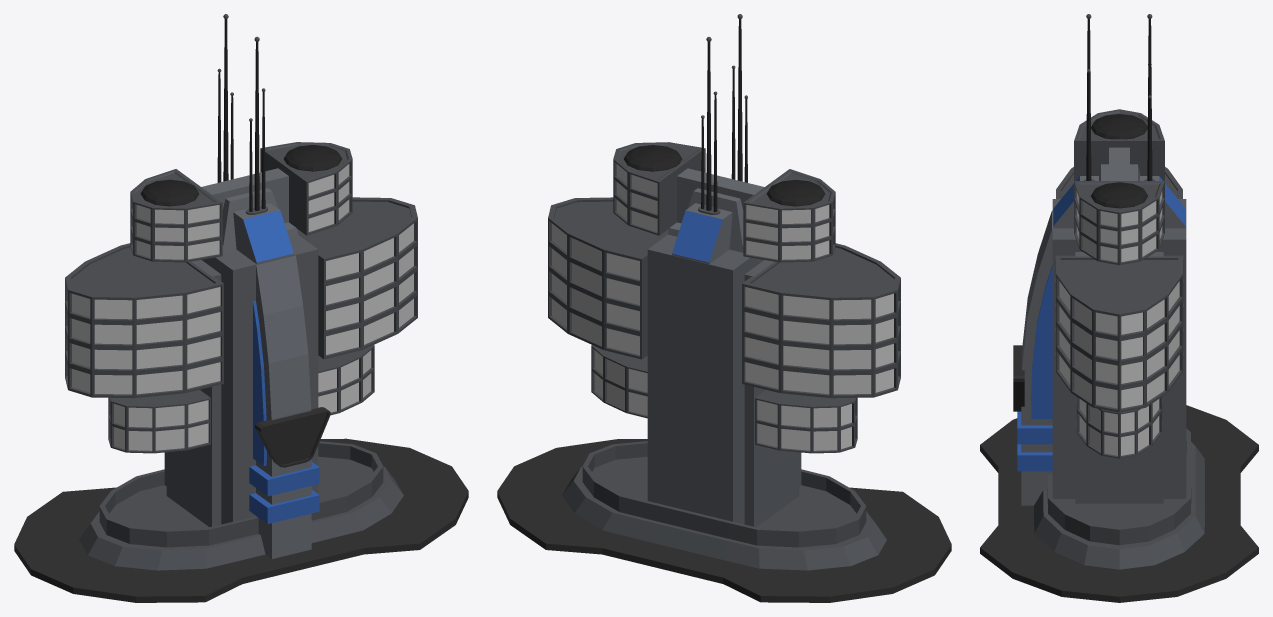
The model's file is Allied_battle_lab_NEW.fbx.
3 views of the same model, side by side, from view 1: azimuth 30°, elevation 25°; view 2: azimuth 150°, elevation 25°; view 3: azimuth 270°, elevation 25° (orthographic). The views are drawn at different scales.
Parts seen in each view (by area): view 1: Cylinder, Cylinder.014, Allied_battle_Lab, Cube.001, Cylinder.002, Cube.002, Cylinder.001, Cube, Cube.006, Cube.004, Circle, Cube.005 (+6 smaller); view 2: Cylinder, Cube.001, Cylinder.014, Allied_battle_Lab, Cylinder.002, Cylinder.001, Cube, Cube.004, Circle, Cube.005, Cube.003, Cylinder.008 (+1 smaller); view 3: Cylinder.014, Cylinder, Allied_battle_Lab, Cylinder.002, Cube.001, Cube, Cylinder.001, Cube.002, Cube.011, Circle, Cube.004, Cube.008 (+6 smaller).
Part boxes in pixels (x1,y1,x2,y2): Cylinder: (65, 197, 417, 398); Cylinder.014: (14, 438, 468, 602); Allied_battle_Lab: (79, 441, 403, 570); Cube.001: (164, 234, 318, 524); Cylinder.002: (130, 142, 352, 262); Cube.002: (256, 255, 311, 558); Cylinder.001: (108, 345, 374, 453); Cube: (166, 260, 221, 527); Cube.006: (255, 407, 330, 467); Cube.004: (233, 203, 293, 263); Circle: (140, 145, 342, 206); Cube.005: (201, 168, 288, 223); Cylinder: (548, 197, 900, 398); Cube.001: (647, 234, 801, 524); Cylinder.014: (497, 439, 951, 602); Allied_battle_Lab: (562, 441, 886, 570); Cylinder.002: (613, 142, 835, 262); Cylinder.001: (591, 345, 857, 453); Cube: (744, 260, 799, 527); Cube.004: (672, 203, 732, 264); Circle: (624, 145, 825, 206); Cube.005: (677, 168, 764, 223); Cube.003: (668, 188, 743, 252); Cylinder.008: (706, 42, 711, 210); Cylinder.014: (980, 405, 1258, 602); Cylinder: (1055, 167, 1183, 412); Allied_battle_Lab: (1034, 428, 1204, 569); Cylinder.002: (1074, 109, 1164, 265); Cube.001: (1052, 199, 1186, 498); Cube: (1075, 252, 1163, 503); Cylinder.001: (1076, 397, 1162, 458); Cube.002: (1021, 210, 1052, 505); Cube.011: (1031, 265, 1052, 418); Circle: (1091, 114, 1147, 208); Cube.004: (1053, 176, 1185, 228); Cube.008: (1017, 411, 1052, 444).
Bounding box in the file's own units: 1416 × 1602 × 830.
